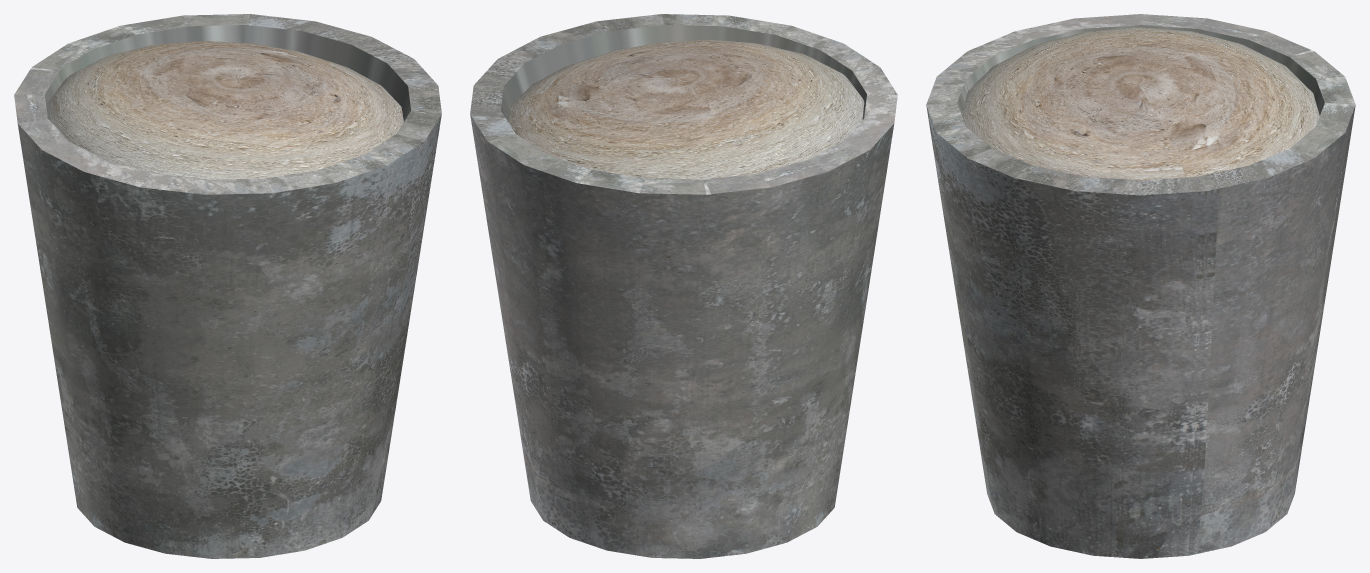
The model's file is Textured_pot.fbx.
3 renders of one model, left to right at view 1: azimuth 30°, elevation 25°; view 2: azimuth 150°, elevation 25°; view 3: azimuth 270°, elevation 25°, orthographic.
Visible parts, largest first — view 1: pCylinder1, pSphere1; view 2: pCylinder1, pSphere1; view 3: pCylinder1, pSphere1.
Part boxes in pixels (x1,y1,x2,y2): pCylinder1: (14,14,441,558); pSphere1: (48,41,403,179); pCylinder1: (470,14,897,558); pSphere1: (508,40,864,179); pCylinder1: (926,14,1355,558); pSphere1: (961,27,1319,180).
Size of the model in its own units: 0.7775 by 0.8295 by 0.7775.
Materials: 2 (2 with a texture image).
